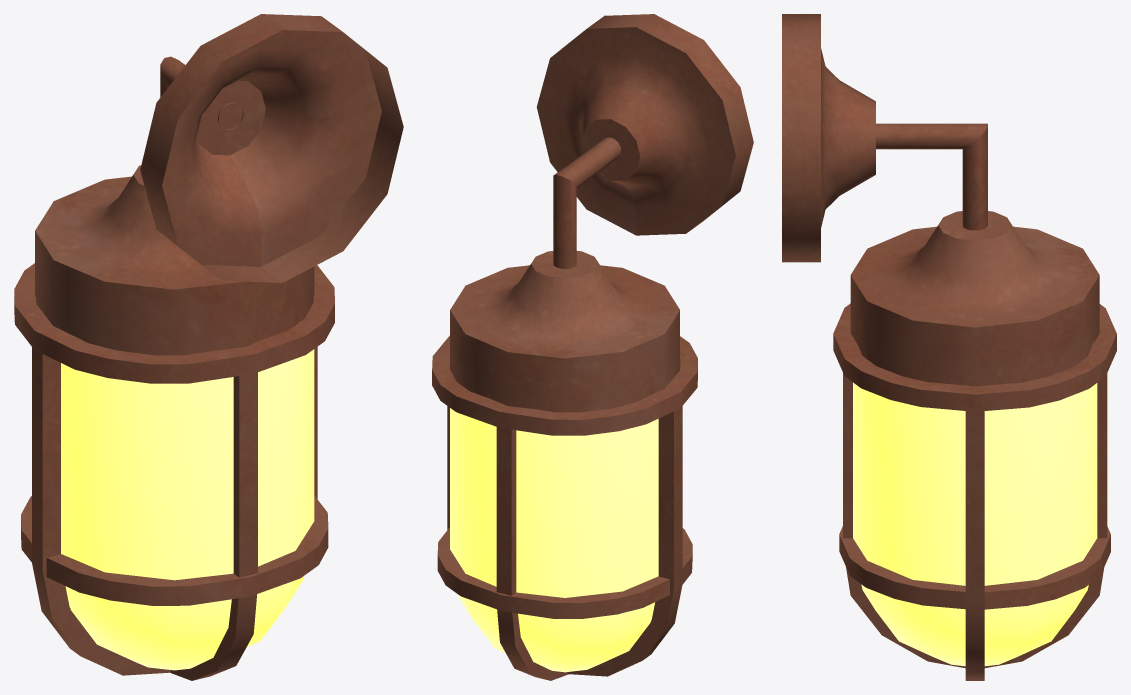
Rendered from Marine_WallMounted_noHat_FullBulb.fbx.
3 renders of one model, left to right at view 1: azimuth 30°, elevation 25°; view 2: azimuth 150°, elevation 25°; view 3: azimuth 270°, elevation 25°, orthographic. The views are drawn at different scales.
Parts seen in each view (by area): view 1: Marine_WallMounted_noHat_FullBulb; view 2: Marine_WallMounted_noHat_FullBulb; view 3: Marine_WallMounted_noHat_FullBulb.
Boxes of the visible parts, x1,y1,x2,y2 form: Marine_WallMounted_noHat_FullBulb: [14, 14, 403, 680]; Marine_WallMounted_noHat_FullBulb: [432, 14, 753, 680]; Marine_WallMounted_noHat_FullBulb: [782, 14, 1116, 680].
Bounding box in the file's own units: 22.05 × 53.9 × 25.53.
2 materials, 1 textured.
